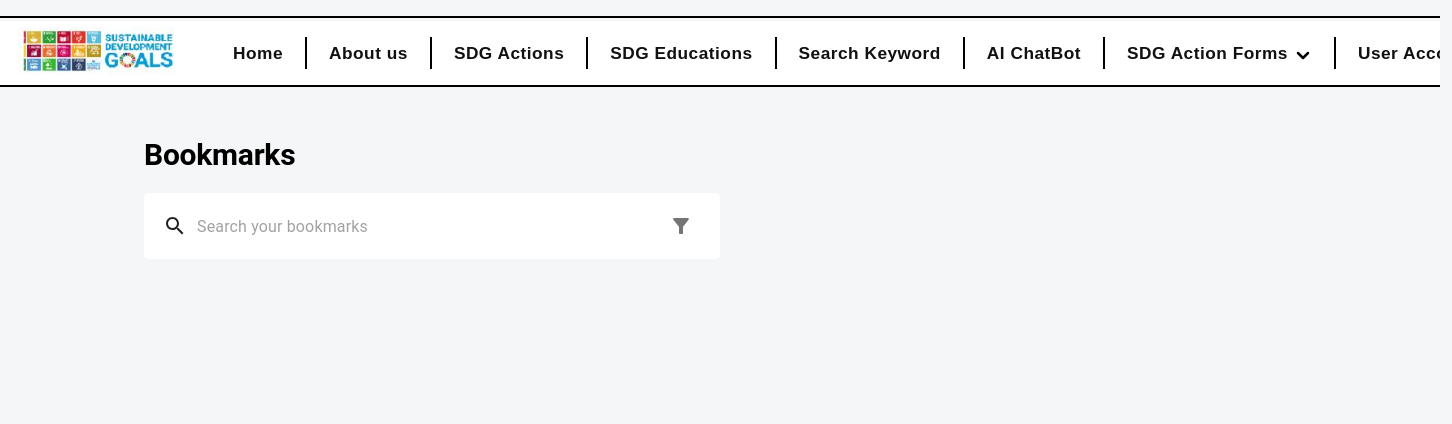
Test: Bookmarks Page › filters out action bookmarks when "Actions" is unchecked
Click the button named "filter".
click(681, 226)  # box top-left (661, 206), bottom-right (701, 246)
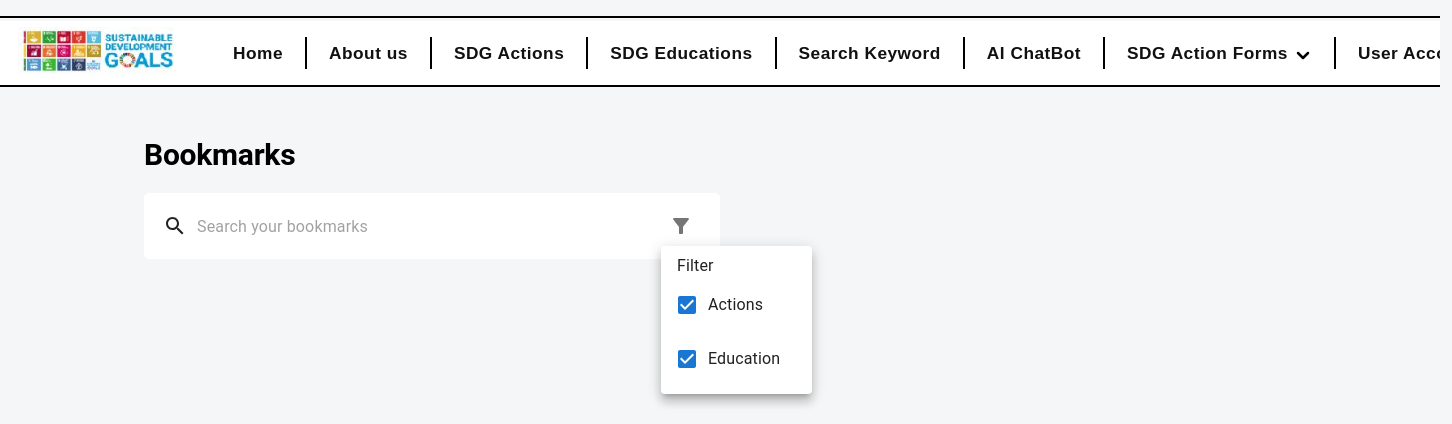
Click the checkbox labelled "Actions".
click(719, 305)  # box top-left (675, 293), bottom-right (763, 317)
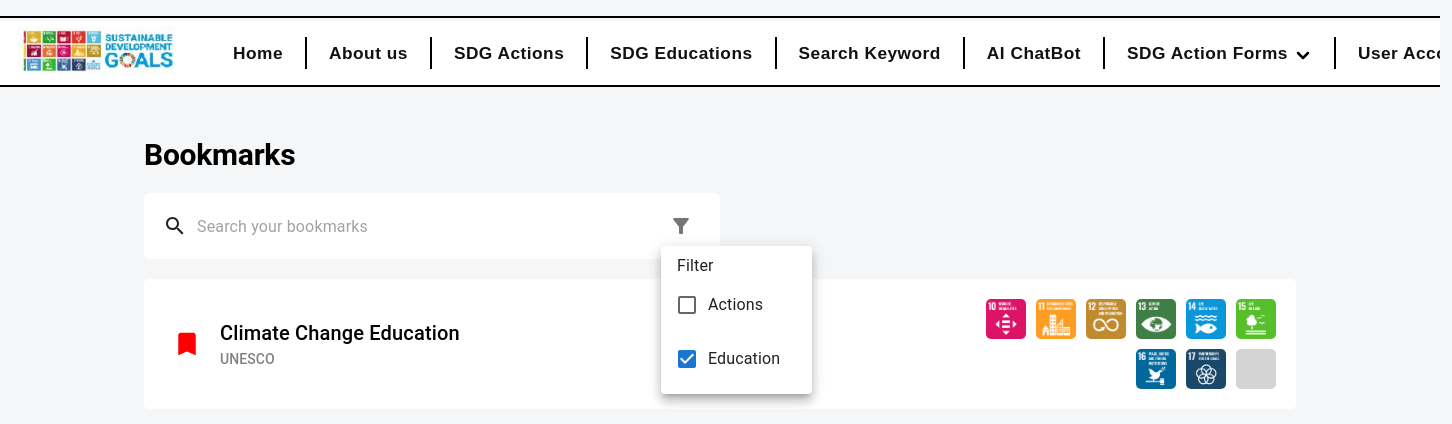
Now the heading "Climate Change Education" is shown, box top-left (220, 317), bottom-right (460, 349)
